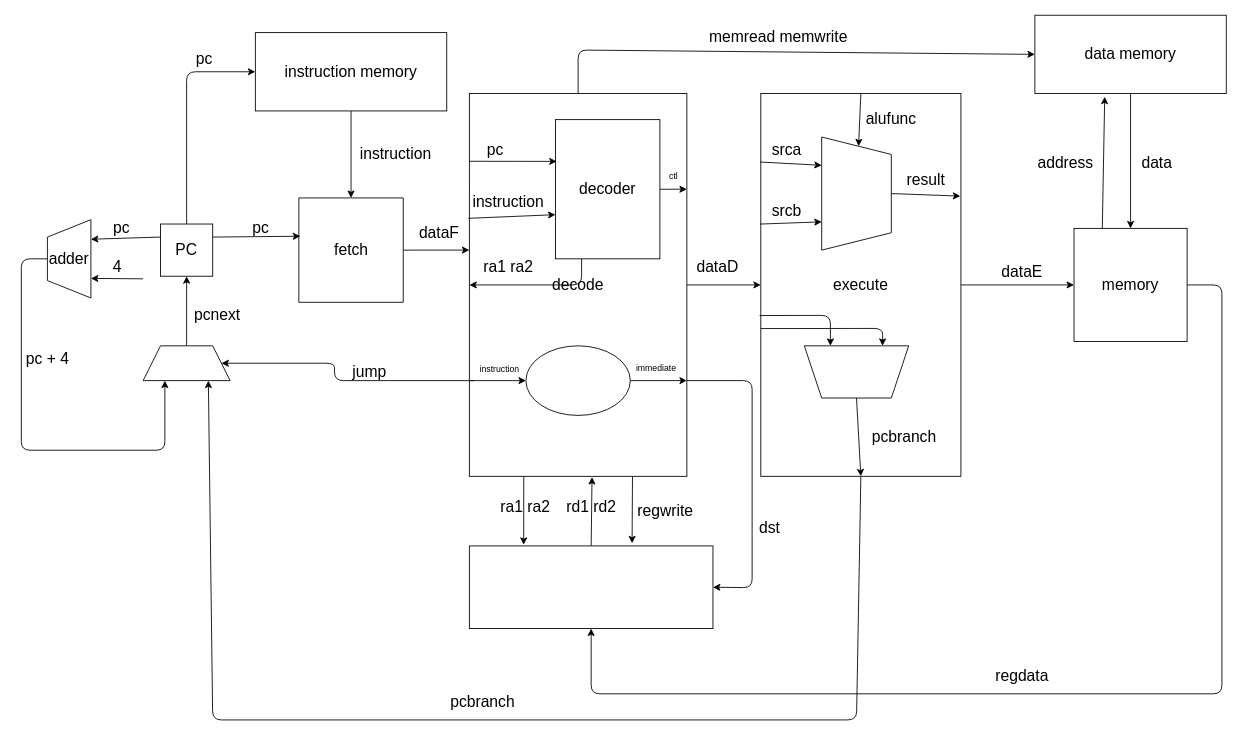
Image size: 1244x742. Some labels were removed from this diagram. The shapes that lost their labels are listed below. From the top down, each one's box as (x1, y1, x2, y2) in pixels, then its label:
(821, 136, 891, 250): ALU
(142, 345, 230, 381): pcselect
(525, 345, 630, 415): extend
(803, 345, 909, 398): pcaddress
(468, 545, 713, 629): regfile
